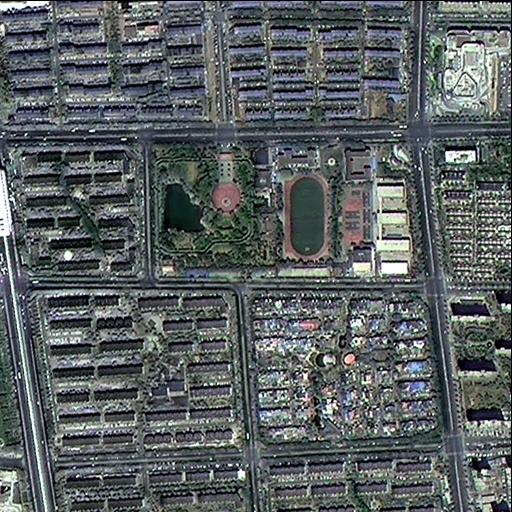school: (273, 138, 411, 276)
